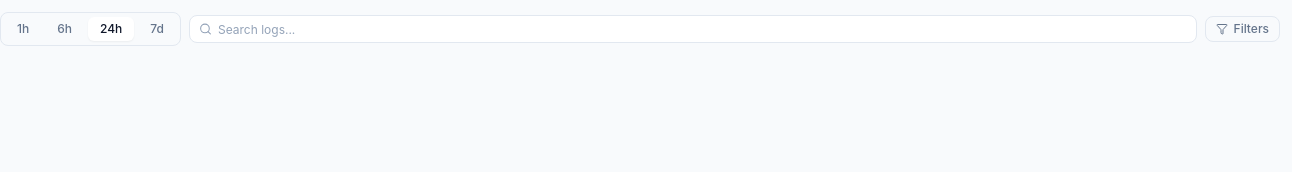
Test: LogFilters › toggles advanced filters panel
The width and height of the screenshot is (1292, 172).
Click the button "Filters" at (1242, 29), box [1205,16,1280,42]
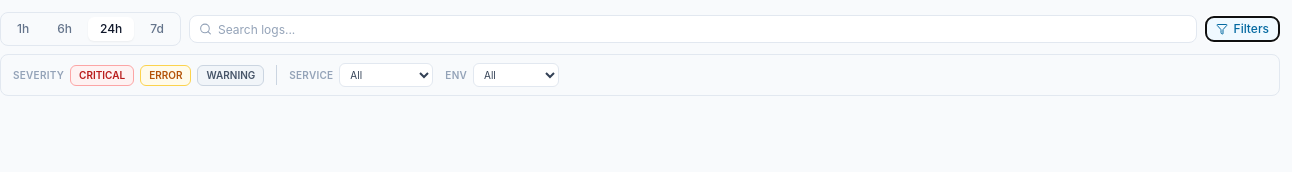
Expected: the text "Severity" is shown, [13,68,64,82]
